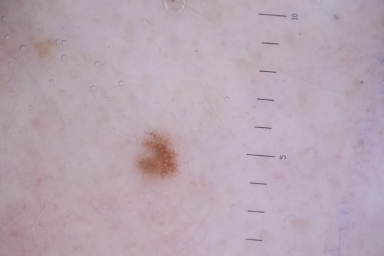nevus: (134, 130, 176, 173)
